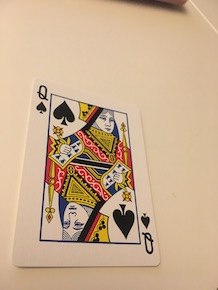QueenOfSpades: (9, 75, 168, 271)
